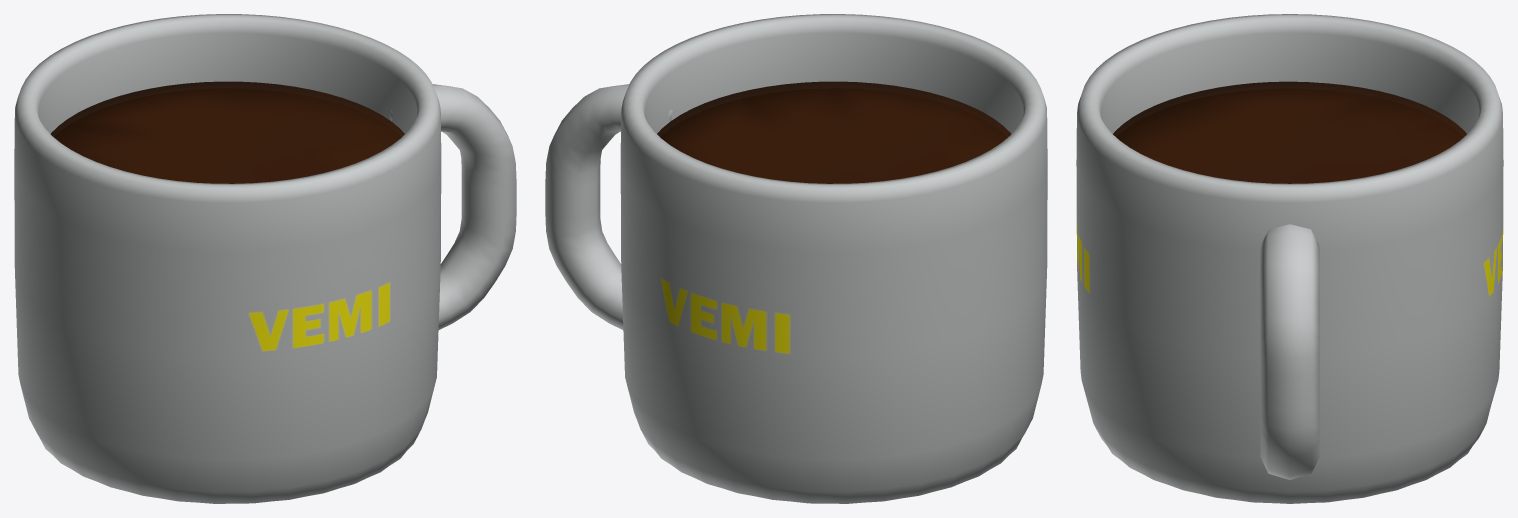
The model's file is CoffeeMug.glb.
3 views of the same model, side by side, from view 1: azimuth 30°, elevation 25°; view 2: azimuth 150°, elevation 25°; view 3: azimuth 270°, elevation 25° (orthographic).
Visible parts, largest first — view 1: Circle.005, Circle.006, Plane.011; view 2: Circle.005, Circle.006, Plane.011; view 3: Circle.005, Circle.006, Plane.011.
Boxes of the visible parts, x1=… form: Circle.005: x1=14, y1=14, x2=441, y2=503; Circle.006: x1=50, y1=81, x2=404, y2=183; Plane.011: x1=388, y1=84, x2=516, y2=329; Circle.005: x1=620, y1=14, x2=1047, y2=503; Circle.006: x1=657, y1=81, x2=1011, y2=183; Plane.011: x1=545, y1=84, x2=672, y2=329; Circle.005: x1=1076, y1=14, x2=1503, y2=503; Circle.006: x1=1113, y1=81, x2=1466, y2=183; Plane.011: x1=1260, y1=224, x2=1319, y2=479.
Size of the model in its own units: 0.1073 by 0.0739 by 0.0846.
2 materials, 1 textured.
